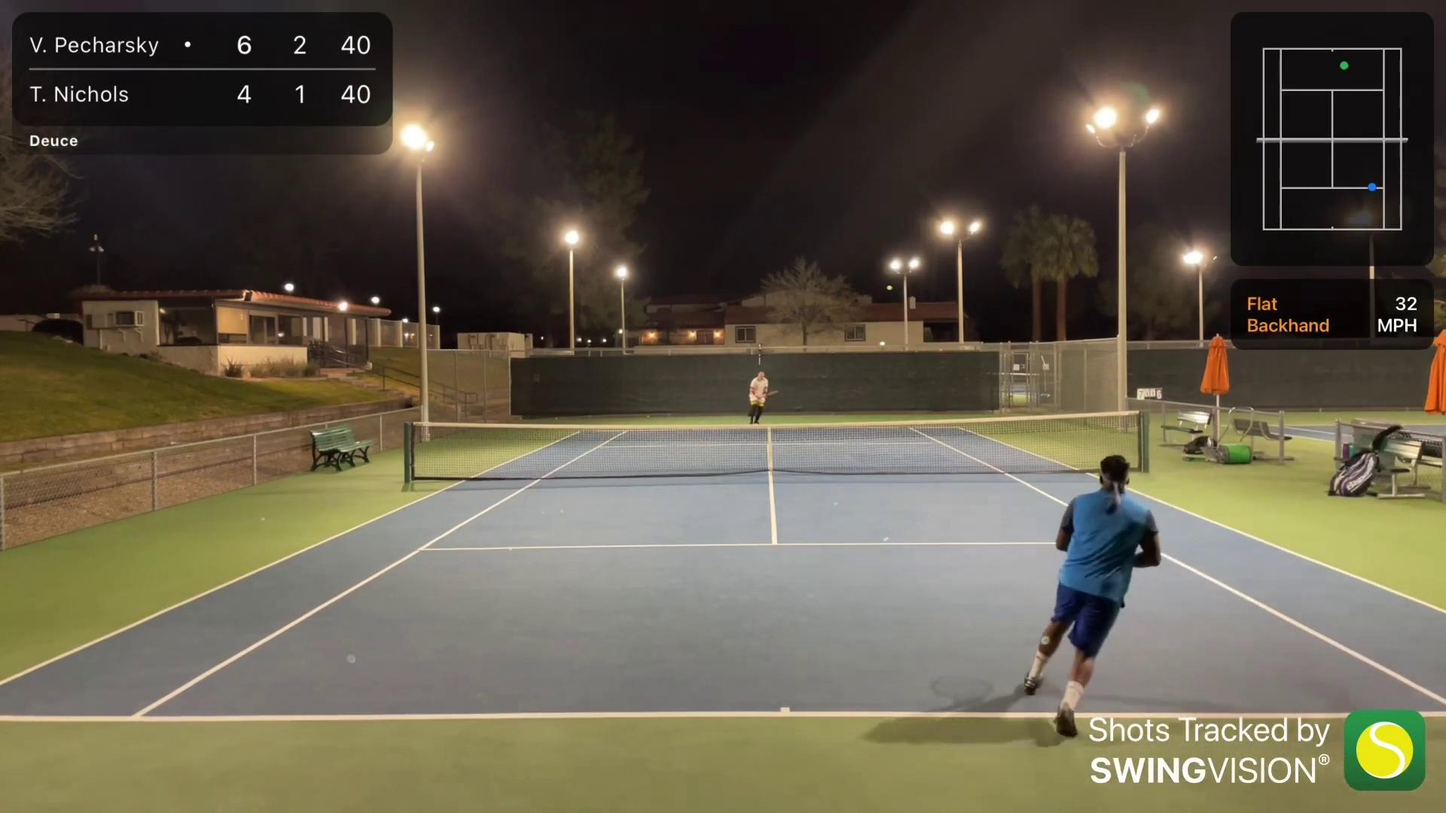ball: (887, 285, 894, 292)
